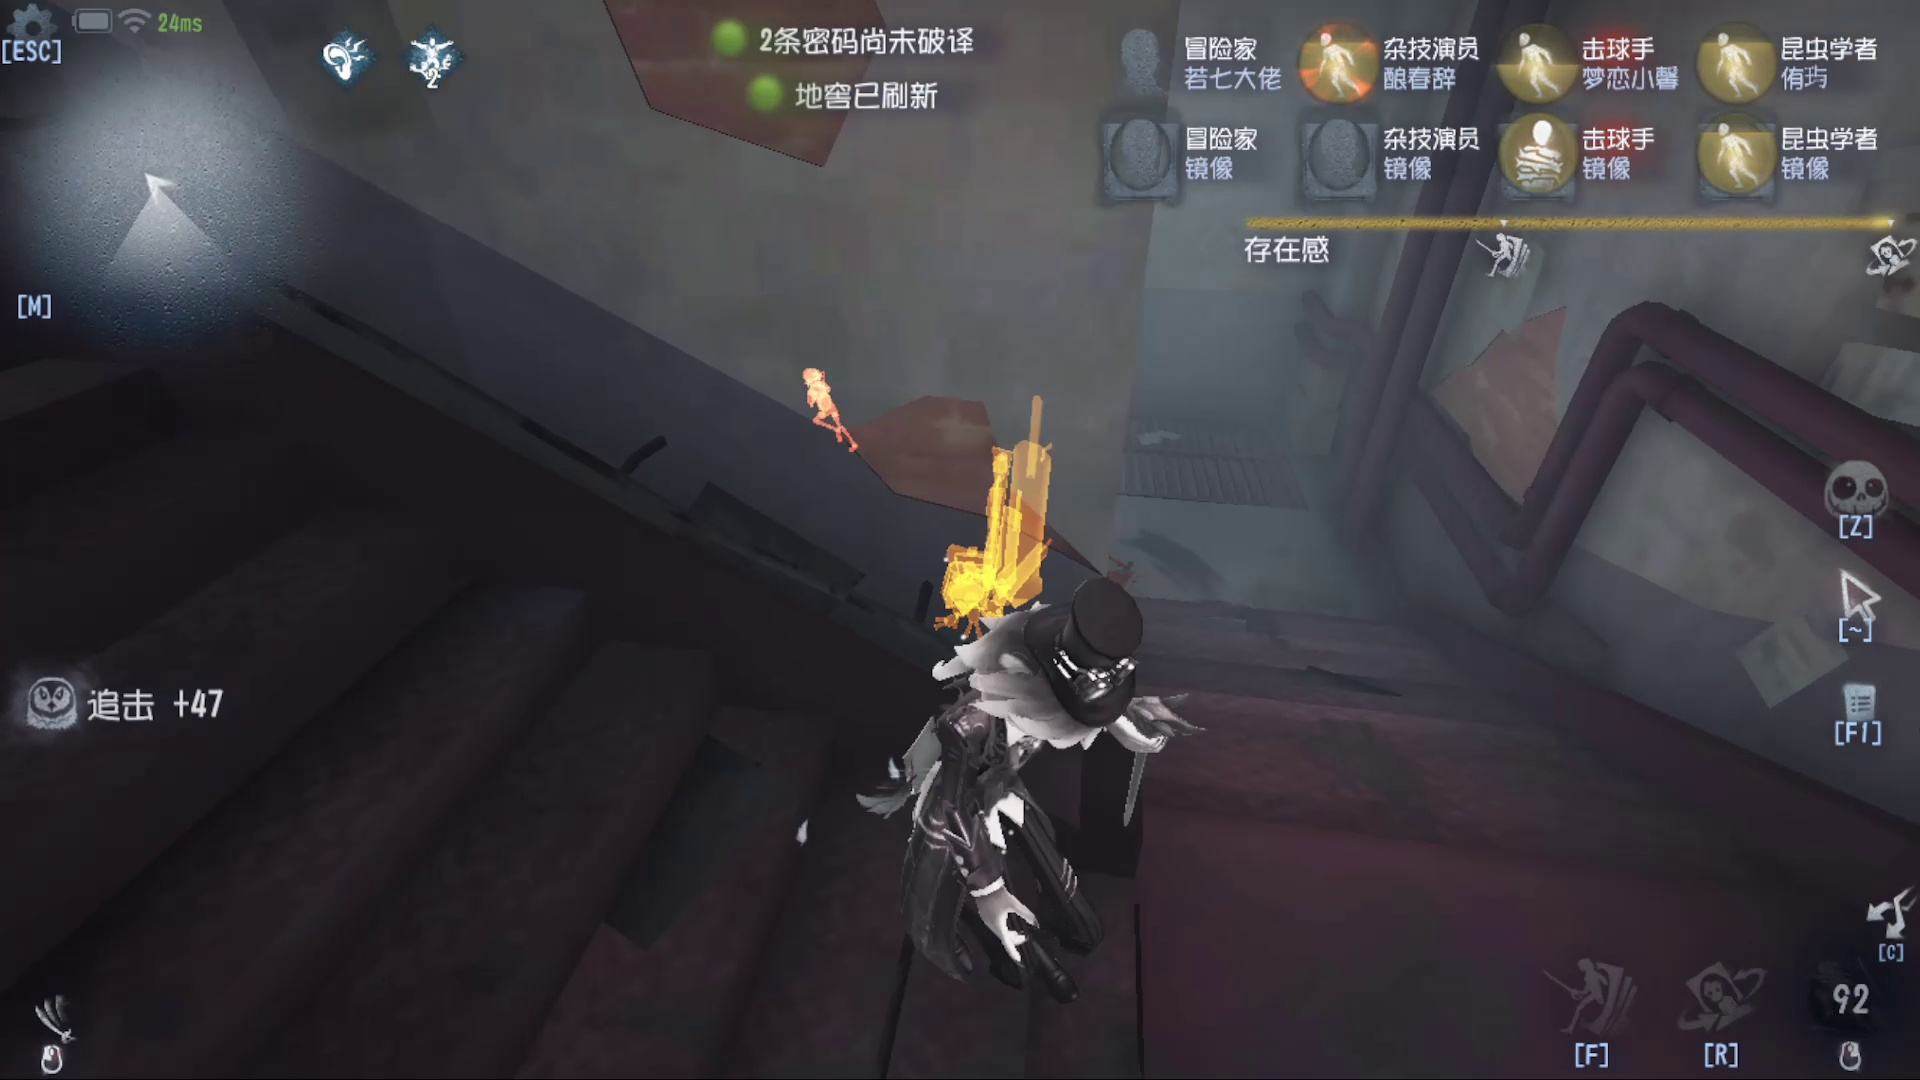求生者: (767, 343, 890, 465)
狂欢之椅: (923, 410, 1058, 642)
